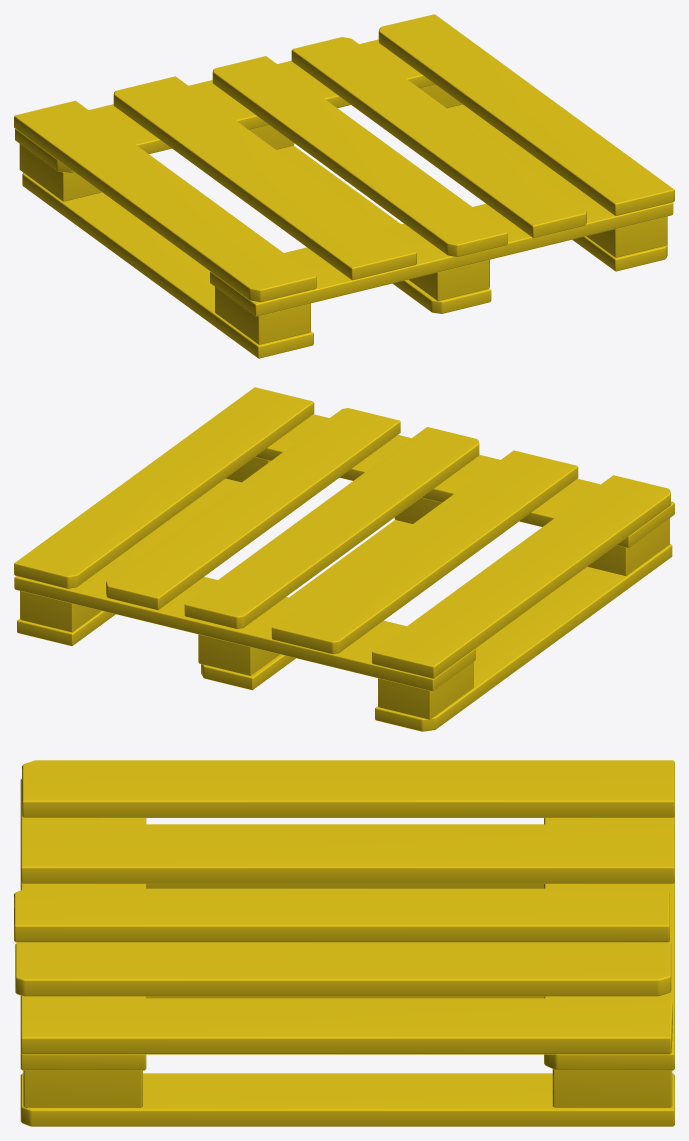
The model's file is SM_Palette_01.fbx.
3 renders of one model, top to bottom at view 1: azimuth 30°, elevation 25°; view 2: azimuth 150°, elevation 25°; view 3: azimuth 270°, elevation 25°, orthographic. The views are drawn at different scales.
Visible parts, largest first — view 1: Plane.003, Plane.002, Plane, Plane.001; view 2: Plane.003, Plane.002, Plane, Plane.001; view 3: Plane.003, Plane.002, Plane, Plane.001.
Part boxes in pixels (x1=…): Plane.003: x1=14, y1=14, x2=674, y2=302; Plane.002: x1=22, y1=104, x2=667, y2=358; Plane: x1=15, y1=39, x2=673, y2=316; Plane.001: x1=19, y1=84, x2=667, y2=344; Plane.003: x1=14, y1=387, x2=670, y2=678; Plane.002: x1=17, y1=478, x2=672, y2=731; Plane: x1=14, y1=414, x2=674, y2=691; Plane.001: x1=20, y1=457, x2=669, y2=719; Plane.003: x1=14, y1=760, x2=674, y2=1054; Plane.002: x1=20, y1=884, x2=674, y2=1126; Plane: x1=20, y1=779, x2=674, y2=1070; Plane.001: x1=23, y1=1069, x2=672, y2=1107.
Size of the model in its own units: 201 by 31.28 by 202.
